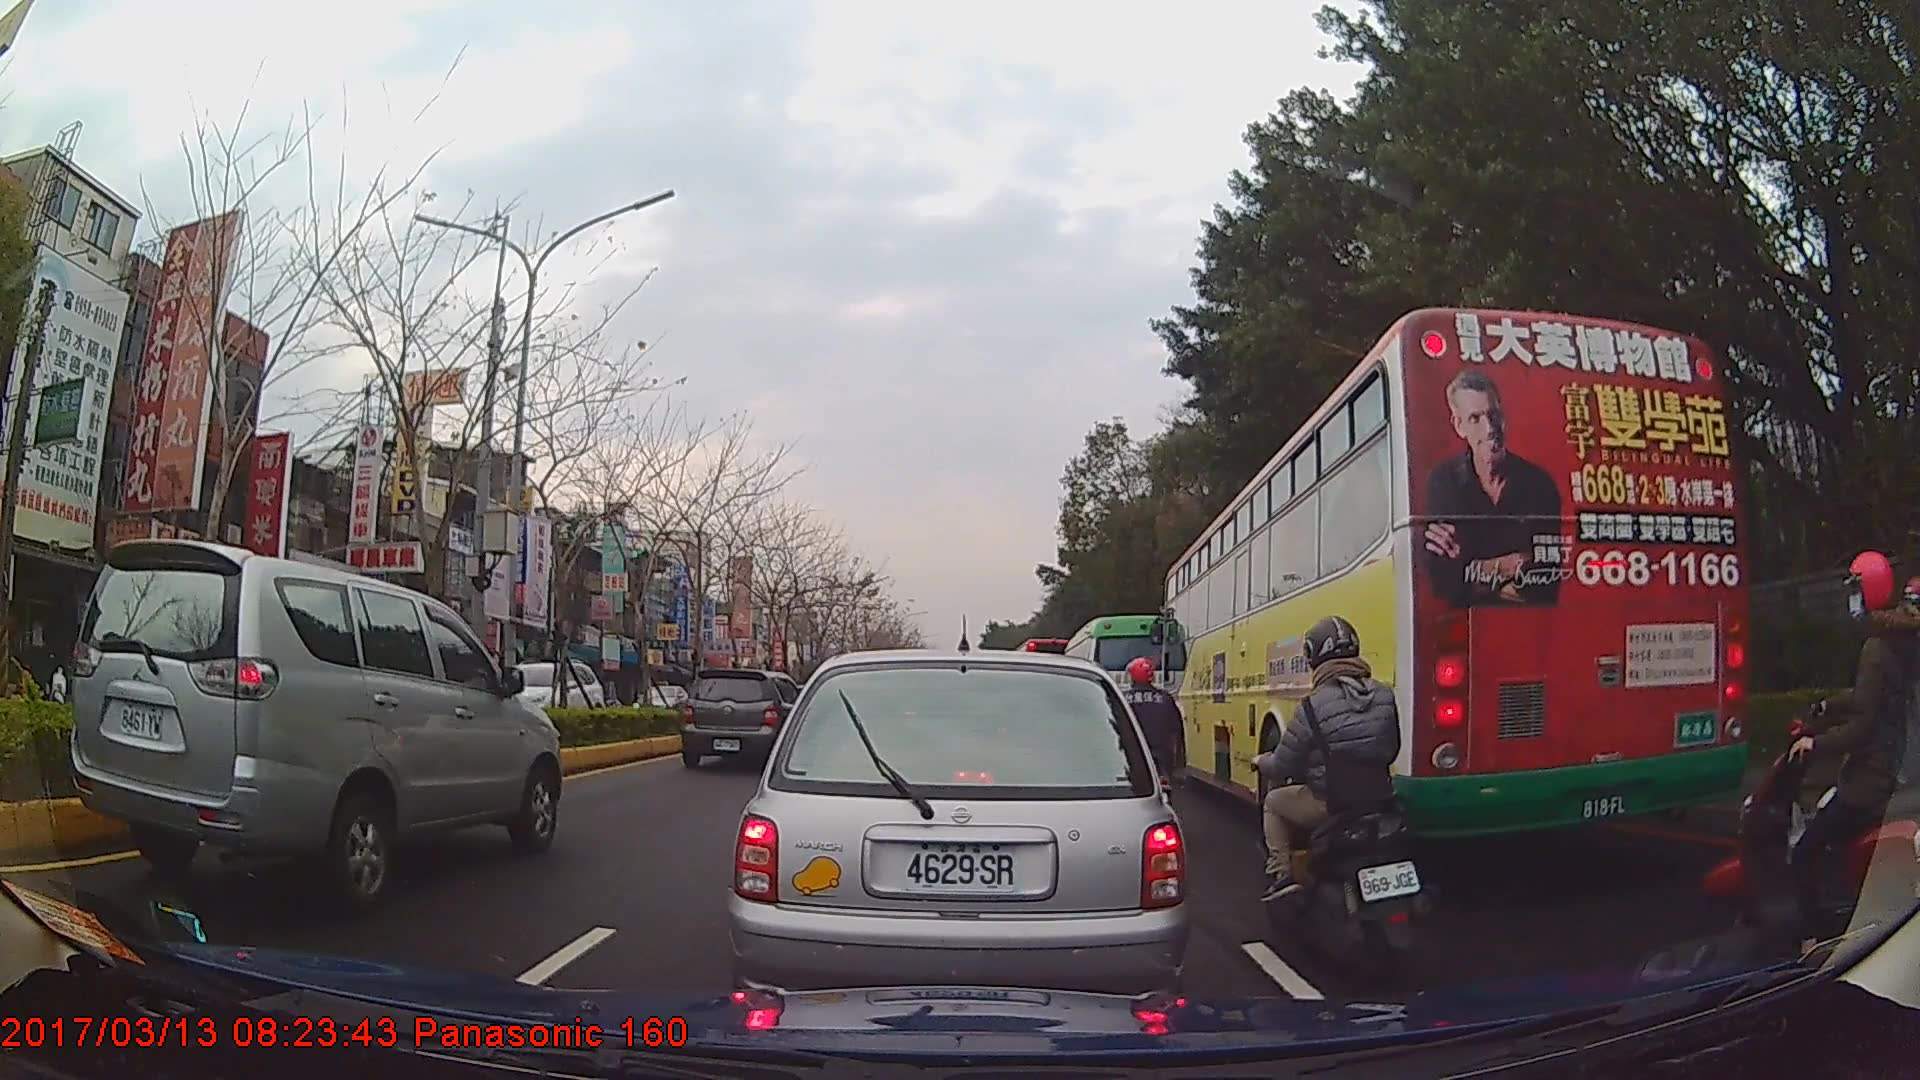rider: (1696, 555, 1913, 971), (1254, 609, 1420, 976), (1106, 656, 1185, 816)
vehicle: (1160, 303, 1752, 855), (64, 538, 558, 907), (730, 645, 1187, 1020), (1063, 613, 1194, 766), (680, 670, 803, 773), (477, 658, 604, 739), (628, 681, 690, 723)
